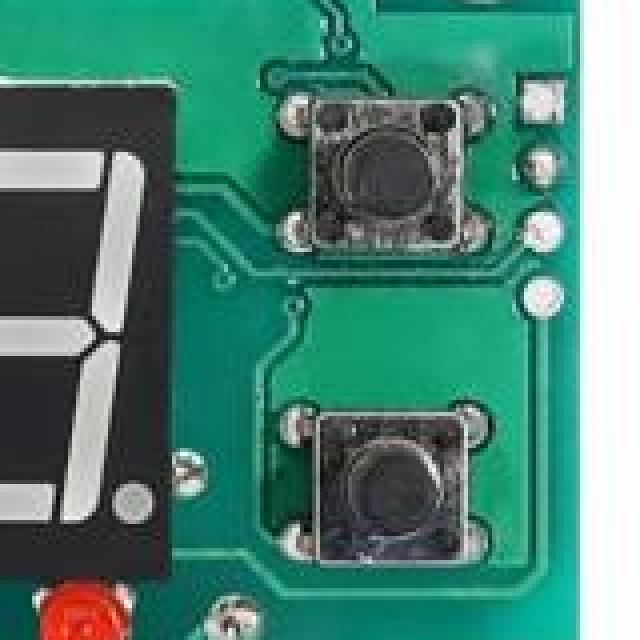LED: (44, 572, 140, 640)
display: (0, 72, 184, 572)
switch: (280, 84, 482, 270), (288, 396, 486, 576)
